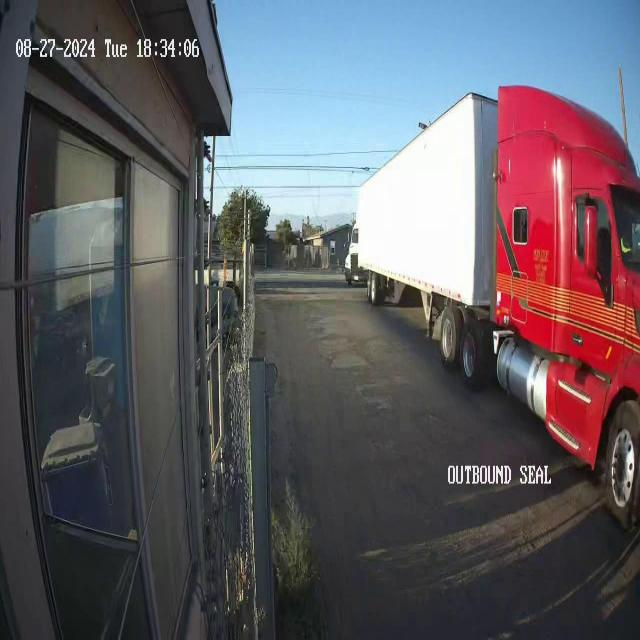TRUCK_IN: (356, 71, 639, 532)
